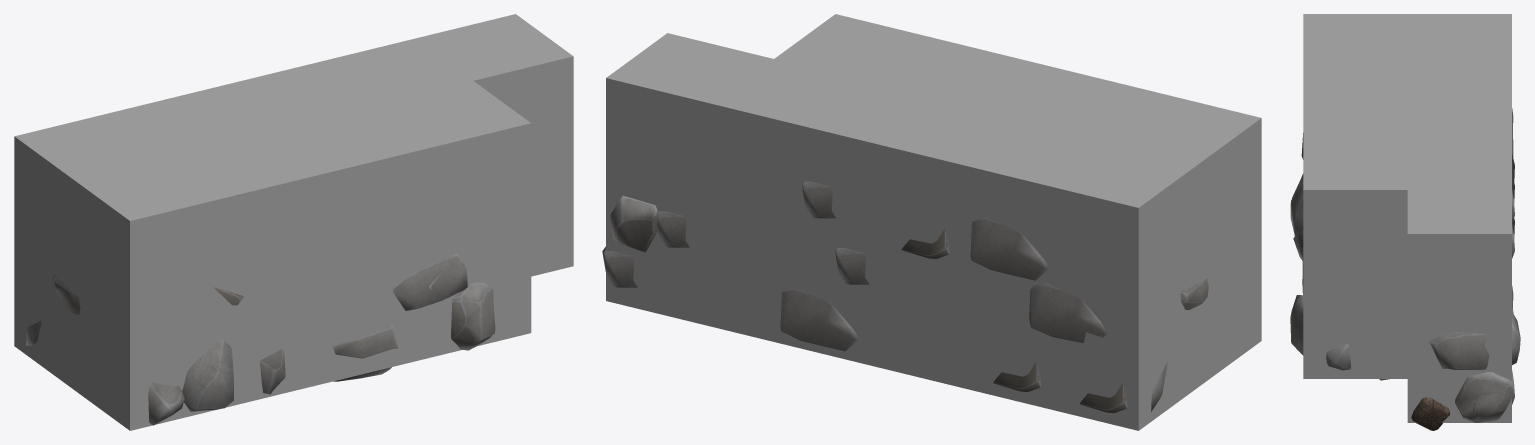
Rendered from little_ruin_variant_2.fbx.
3 renders of one model, left to right at view 1: azimuth 30°, elevation 25°; view 2: azimuth 150°, elevation 25°; view 3: azimuth 270°, elevation 25°, orthographic. The views are drawn at different scales.
Parts seen in each view (by area): view 1: standardCube5, ruin_3_brick1_low11; view 2: standardCube5, ruin_3_brick1_low11; view 3: standardCube5, ruin_3_brick1_low11.
Part boxes in pixels (x1,y1,x2,y2): standardCube5: (14, 14, 573, 430); ruin_3_brick1_low11: (26, 253, 495, 425); standardCube5: (606, 14, 1261, 430); ruin_3_brick1_low11: (602, 181, 1208, 413); standardCube5: (1303, 14, 1511, 422); ruin_3_brick1_low11: (1290, 108, 1520, 430).
Bounding box in the file's own units: 512 × 211 × 221.
2 materials, 1 textured.
